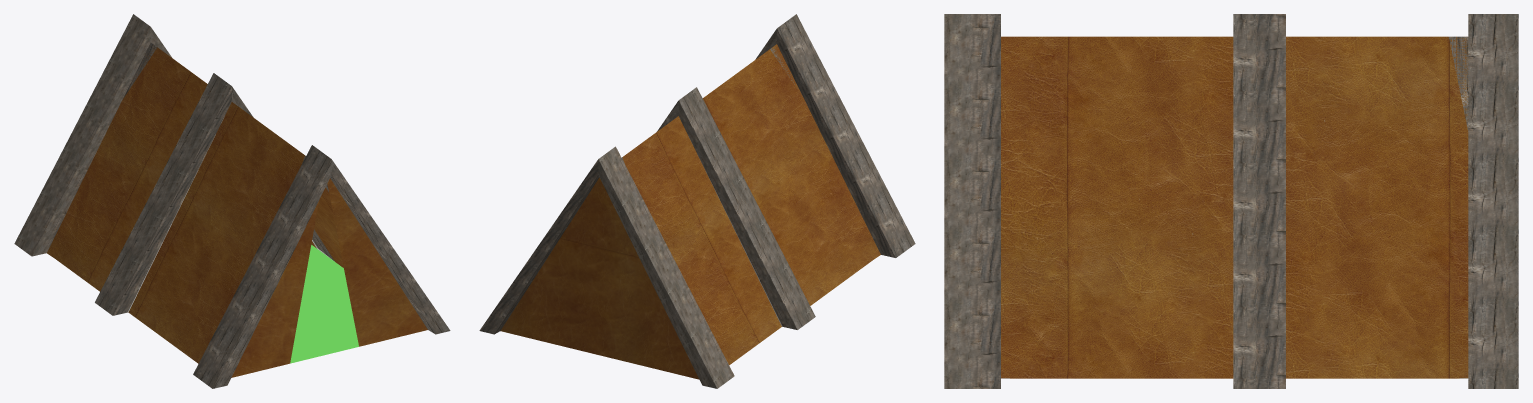
Rendered from basic_shed.glb.
3 views of the same model, side by side, from view 1: azimuth 30°, elevation 25°; view 2: azimuth 150°, elevation 25°; view 3: azimuth 270°, elevation 25° (orthographic). The views are drawn at different scales.
Visible parts, largest first — view 1: Cube; view 2: Cube; view 3: Cube.
Boxes of the visible parts, x1,y1,x2,y2 form: Cube: (14,14,450,388); Cube: (479,14,915,388); Cube: (944,14,1518,388).
Bounding box in the file's own units: 7.25 × 5.86 × 10.46.
4 materials, 2 textured.
